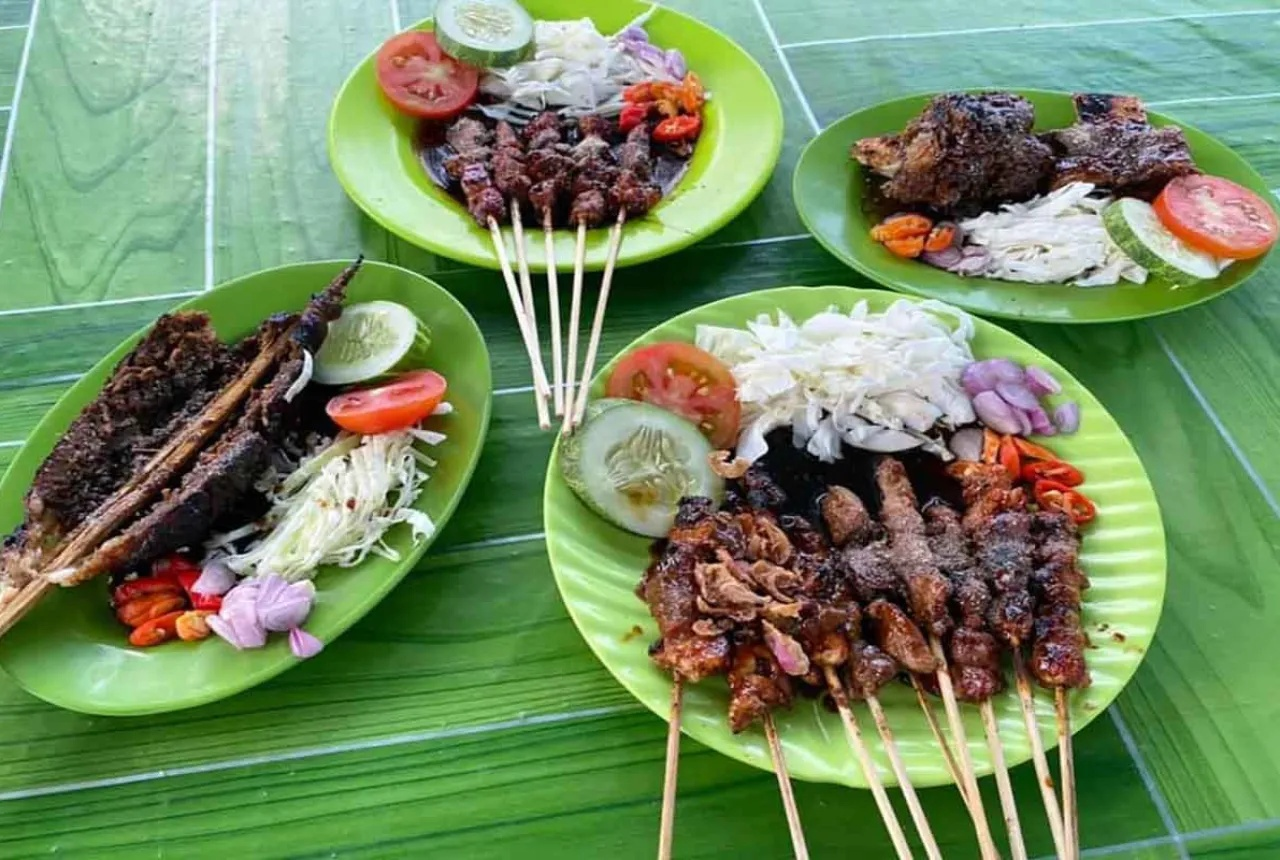sate: (644, 445, 1137, 745), (435, 85, 686, 240)
